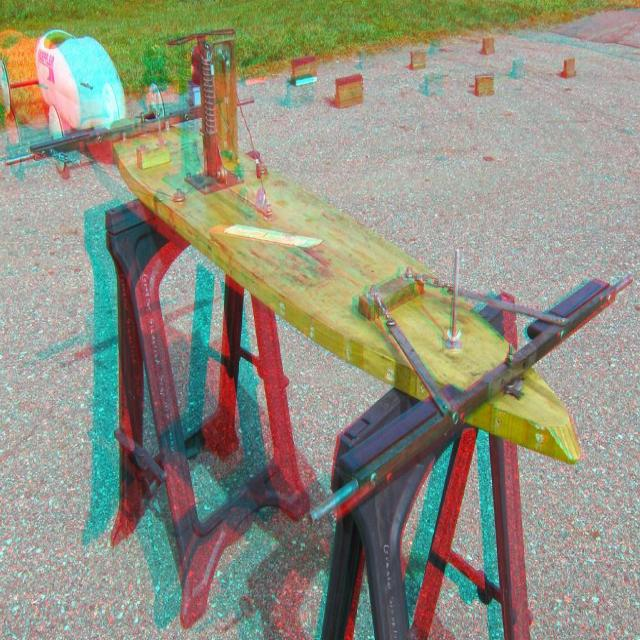Table: (59, 58, 534, 587)
